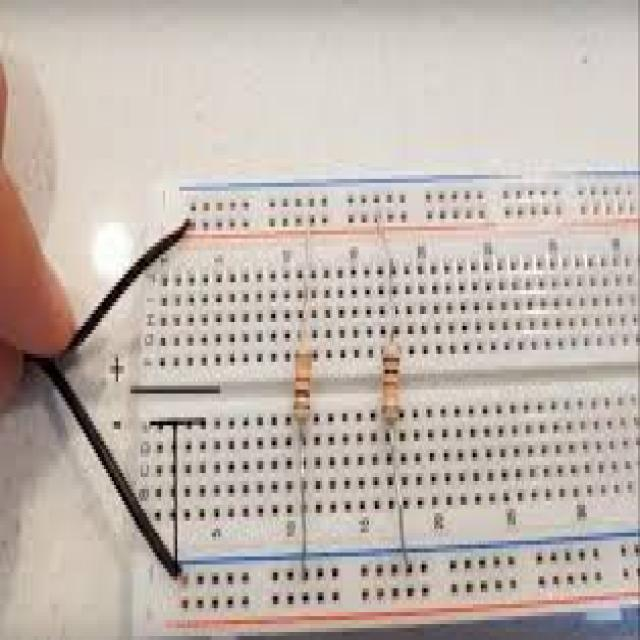Resistor Carbon-Film: (380, 342, 402, 429), (293, 337, 312, 433)
